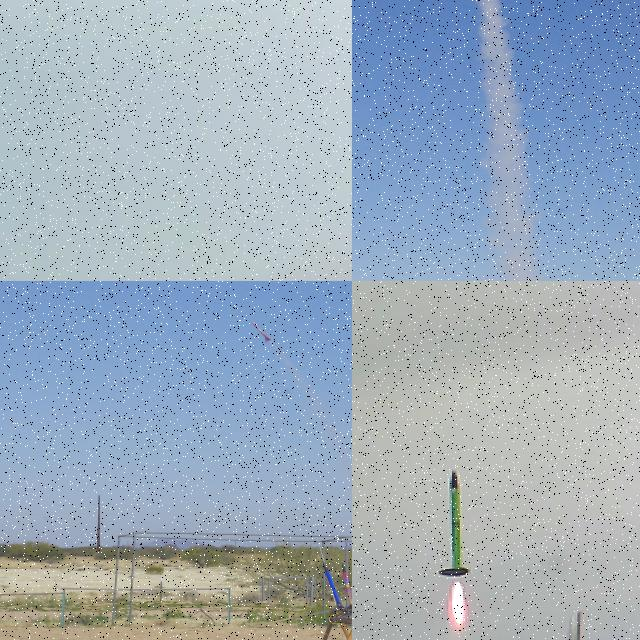Rocket: (437, 468, 472, 578), (322, 562, 346, 610), (559, 611, 579, 640), (250, 321, 273, 344), (341, 562, 352, 609)
